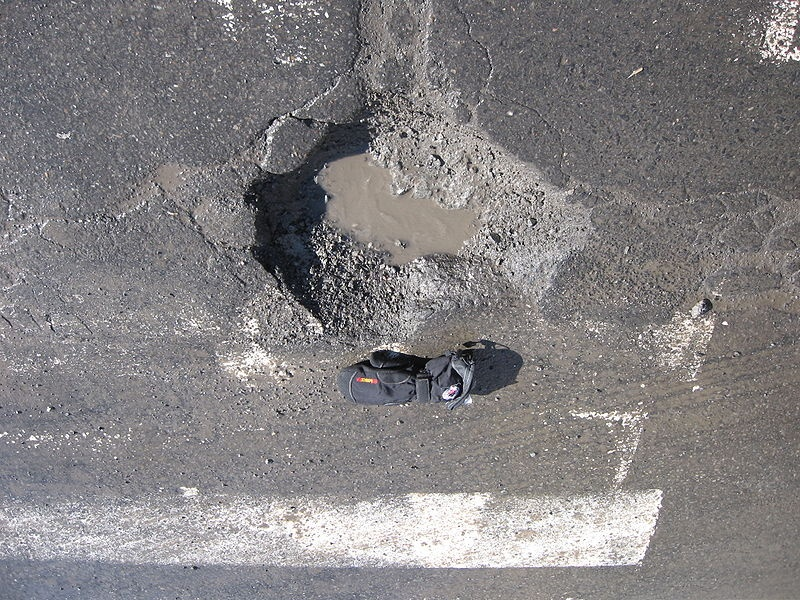pothole: (243, 119, 547, 339)
